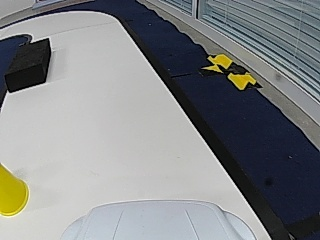block: (5, 39, 51, 93)
cone: (0, 157, 29, 217)
